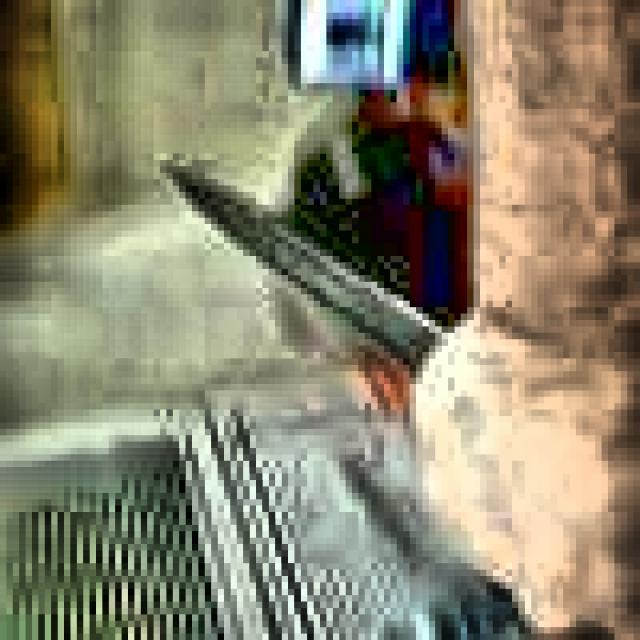knife: (162, 164, 445, 374)
